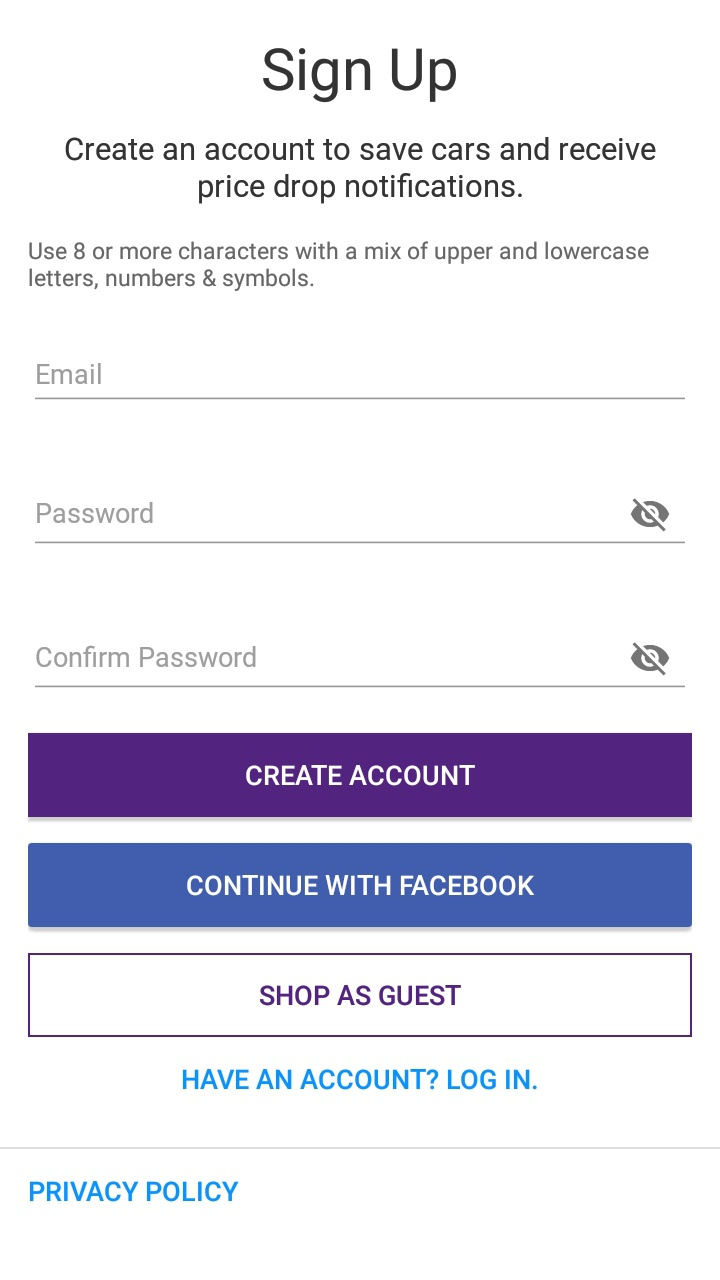EditText: (35, 498, 685, 544), (35, 642, 685, 688), (35, 363, 685, 401)
Icon: (630, 498, 670, 533), (630, 642, 670, 677)
Text: (66, 138, 656, 205), (29, 241, 650, 292), (263, 48, 457, 104), (183, 1068, 538, 1090), (37, 646, 257, 668), (30, 1180, 239, 1202), (38, 501, 155, 524), (37, 363, 103, 385)
TextButton: (28, 733, 692, 818), (29, 953, 692, 1038), (29, 843, 692, 927)
